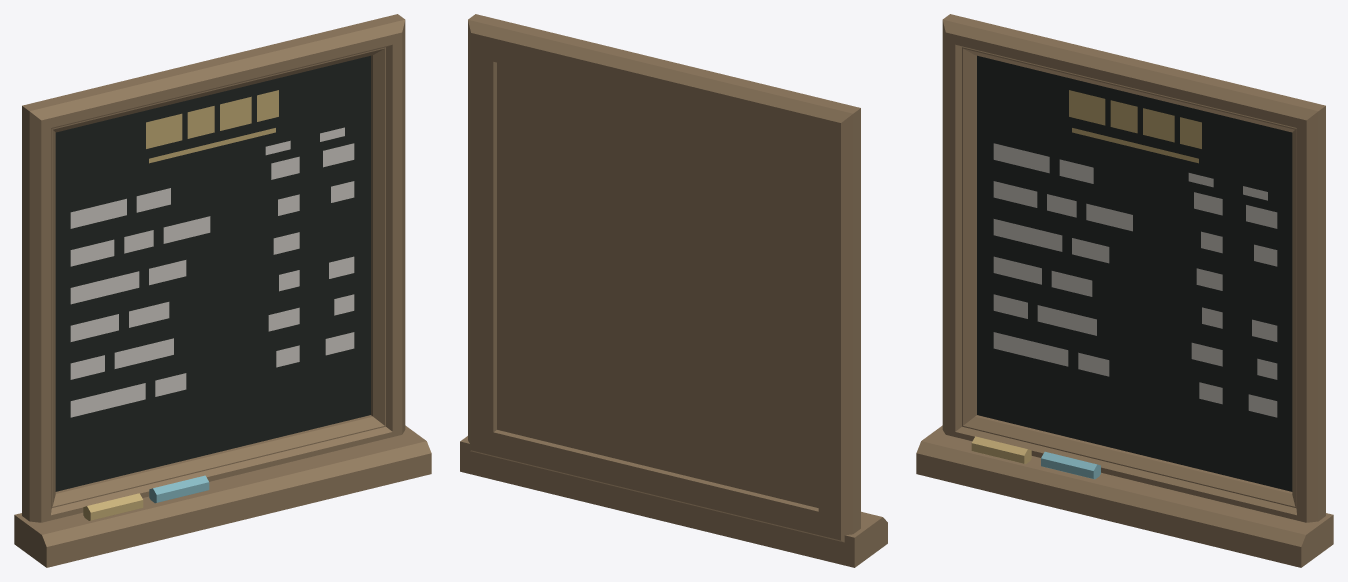
Rendered from chalkboard-menu-board-a24d9d.glb.
3 views of the same model, side by side, from view 1: azimuth 30°, elevation 25°; view 2: azimuth 150°, elevation 25°; view 3: azimuth 330°, elevation 25° (orthographic). The views are drawn at different scales.
Visible parts, largest first — view 1: chalkboard-menu-board, chalk-cool, chalk-warm; view 2: chalkboard-menu-board; view 3: chalkboard-menu-board, chalk-warm, chalk-cool.
Part boxes in pixels (x1,y1,x2,y2): chalkboard-menu-board: [14, 14, 431, 567]; chalk-cool: [149, 475, 209, 503]; chalk-warm: [83, 493, 143, 520]; chalkboard-menu-board: [460, 14, 887, 567]; chalkboard-menu-board: [916, 14, 1333, 567]; chalk-warm: [971, 436, 1031, 464]; chalk-cool: [1041, 451, 1100, 479].
Bounding box in the file's own units: 1.02 × 1.12 × 0.155.
